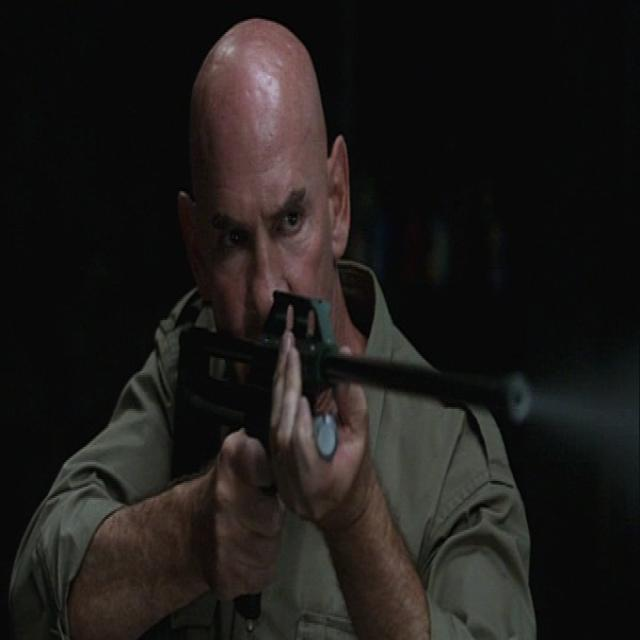rifle: (170, 282, 535, 636)
